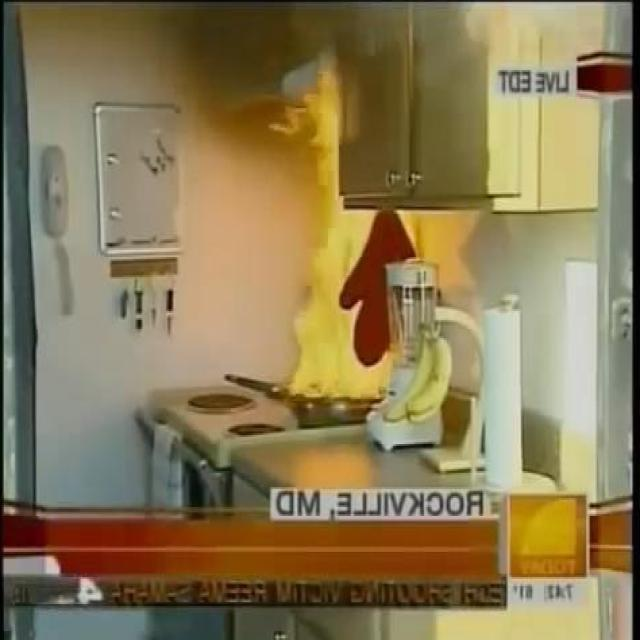fire: (289, 4, 632, 74)
smoke: (292, 58, 416, 400)
